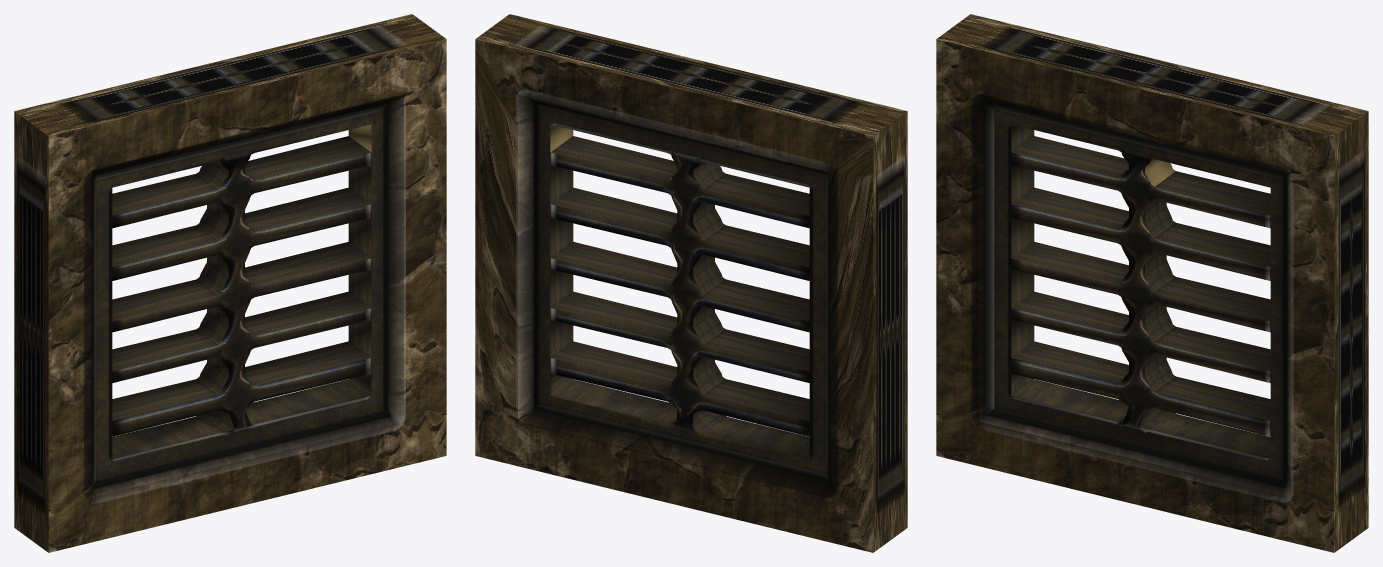
File: BarredWall.fbx
3 renders of one model, left to right at view 1: azimuth 30°, elevation 25°; view 2: azimuth 150°, elevation 25°; view 3: azimuth 330°, elevation 25°, orthographic.
Parts seen in each view (by area): view 1: Wall2_LOD0; view 2: Wall2_LOD0; view 3: Wall2_LOD0.
Part boxes in pixels (x1=…): Wall2_LOD0: x1=14, y1=14, x2=446, y2=552; Wall2_LOD0: x1=475, y1=14, x2=907, y2=552; Wall2_LOD0: x1=936, y1=14, x2=1368, y2=552.
Size of what is drawn, in the model's own units: 200 by 200 by 30.
